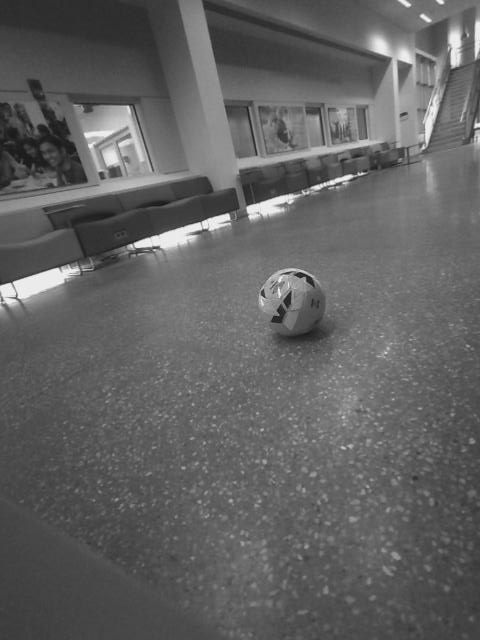ball: (254, 266, 330, 338)
